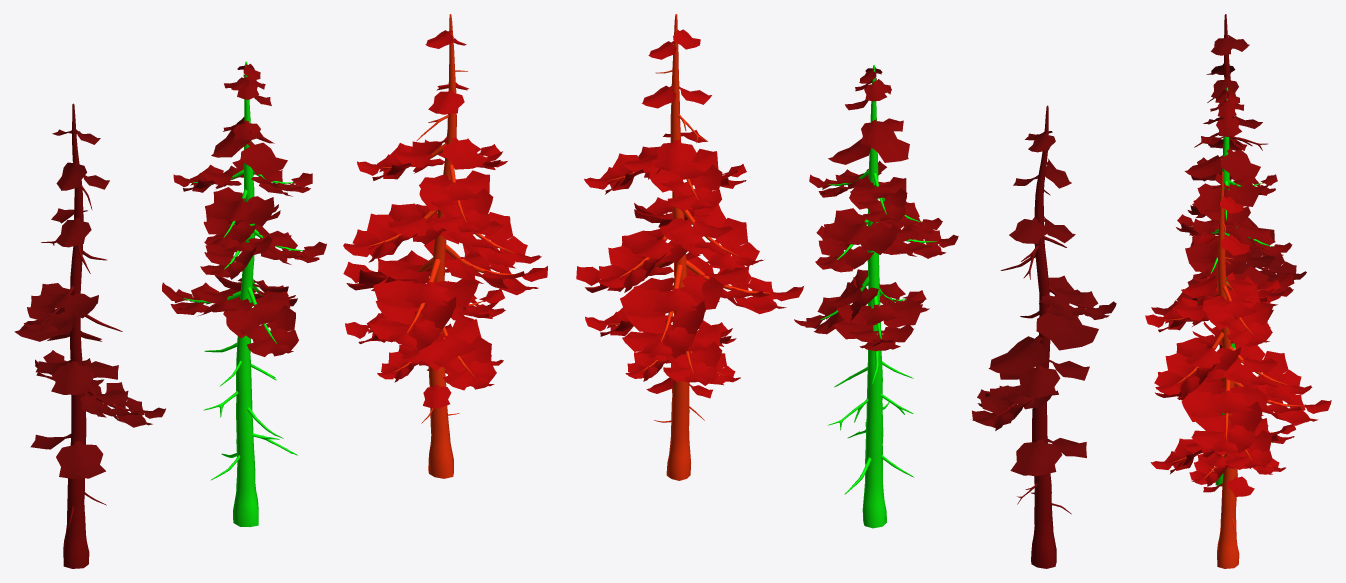
Rendered from Trees Random Test.fbx.
The picture shows the model from 3 angles, left to right: view 1: azimuth 30°, elevation 25°; view 2: azimuth 150°, elevation 25°; view 3: azimuth 270°, elevation 25°; orthographic projection. The views are drawn at different scales.
Parts seen in each view (by area): view 1: stylized_pine_var2.001; view 2: stylized_pine_var2.001; view 3: stylized_pine_var2.001.
Boxes of the visible parts, box(x1,y1,x2,y2) form: stylized_pine_var2.001: box(14, 14, 547, 568); stylized_pine_var2.001: box(576, 14, 1116, 568); stylized_pine_var2.001: box(1145, 14, 1331, 568).
Bounding box in the file's own units: 1729 × 1436 × 613.
